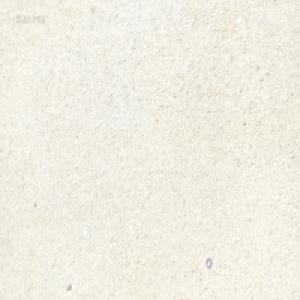Washer: (205, 257, 211, 268)
